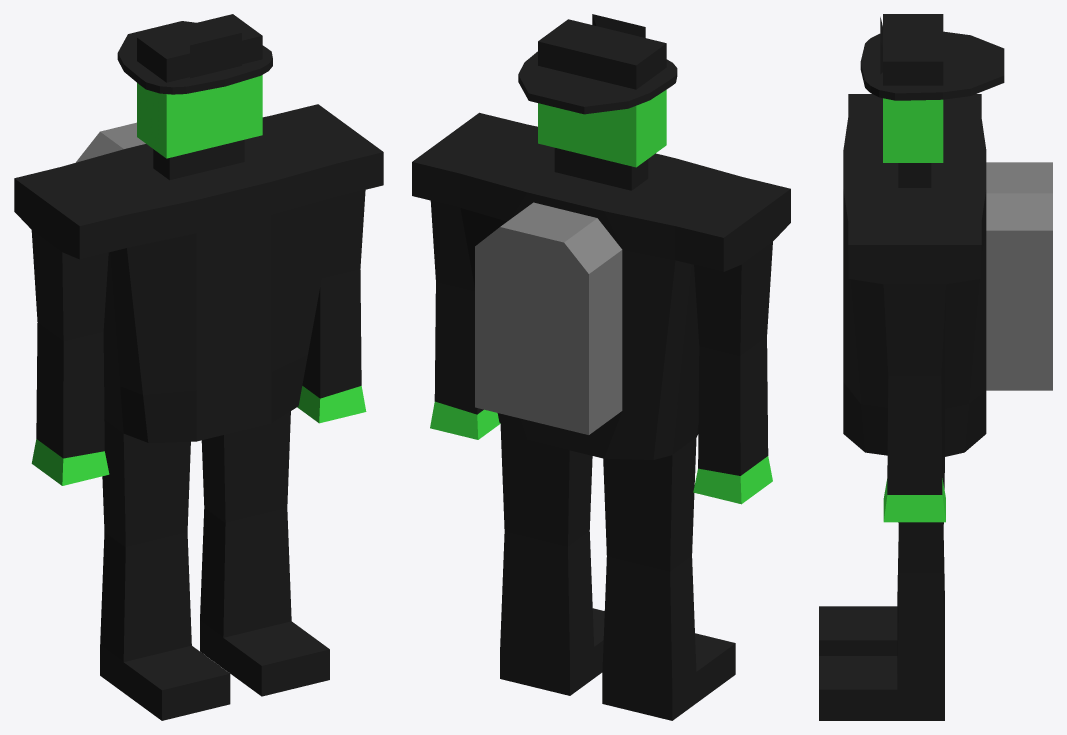
File: Human_FF.fbx
3 renders of one model, left to right at view 1: azimuth 30°, elevation 25°; view 2: azimuth 150°, elevation 25°; view 3: azimuth 270°, elevation 25°, orthographic. The views are drawn at different scales.
Visible parts, largest first — view 1: Human_FF; view 2: Human_FF; view 3: Human_FF.
Boxes of the visible parts, bbox=[...] form: Human_FF: bbox=[14, 14, 383, 720]; Human_FF: bbox=[412, 14, 790, 720]; Human_FF: bbox=[819, 14, 1052, 720].
Size of the model in its own units: 88.97 by 179 by 58.18.
